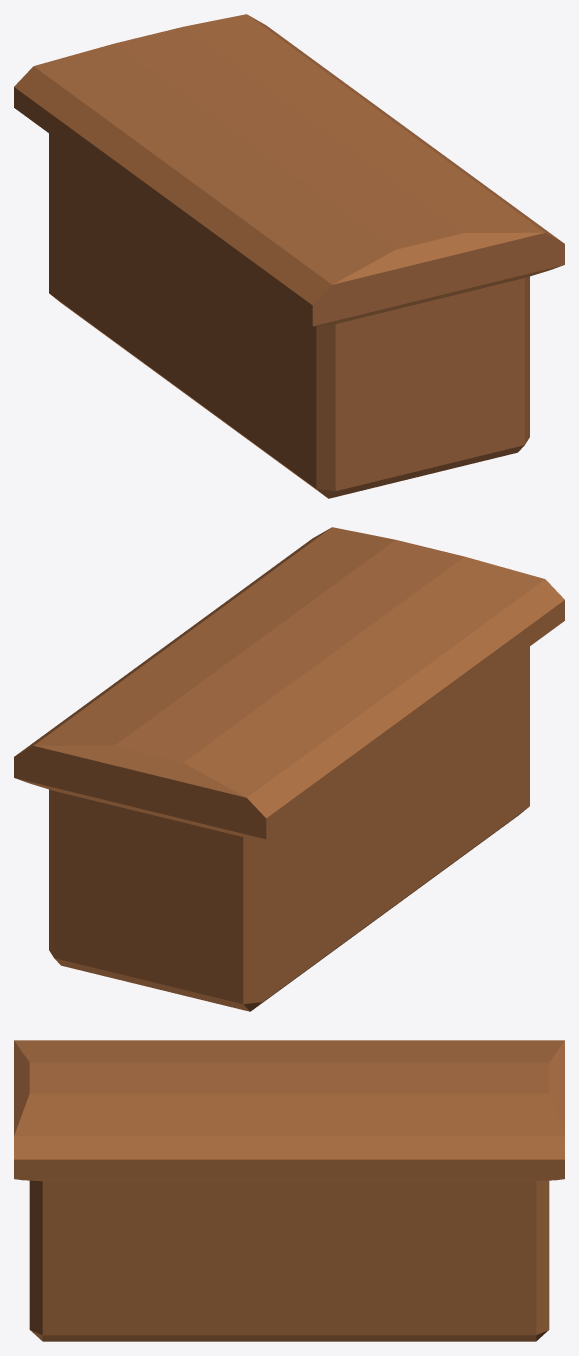
File: BreadLoaf.fbx
3 renders of one model, top to bottom at view 1: azimuth 30°, elevation 25°; view 2: azimuth 150°, elevation 25°; view 3: azimuth 270°, elevation 25°, orthographic. The views are drawn at different scales.
Parts seen in each view (by area): view 1: Cube.008; view 2: Cube.008; view 3: Cube.008.
Boxes of the visible parts, x1,y1,x2,y2 form: Cube.008: (14, 14, 564, 498); Cube.008: (14, 527, 564, 1011); Cube.008: (14, 1040, 564, 1341).
Bounding box in the file's own units: 35.81 × 32.5 × 73.44.
